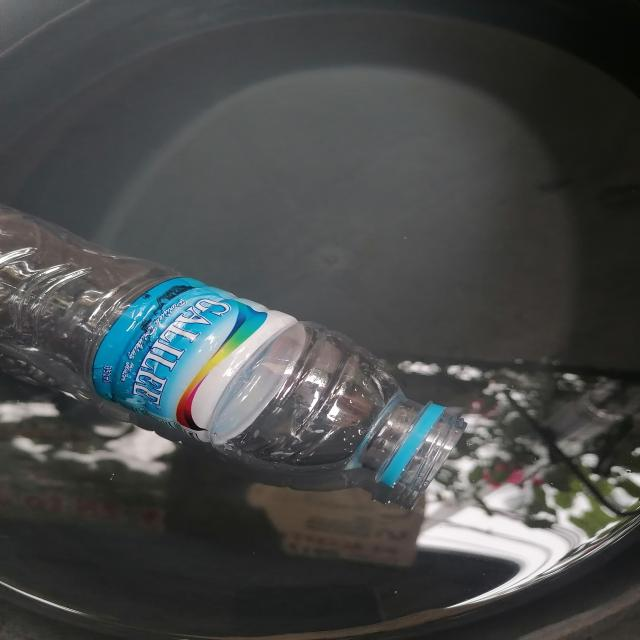Plastic Bottle: (0, 184, 493, 517)
